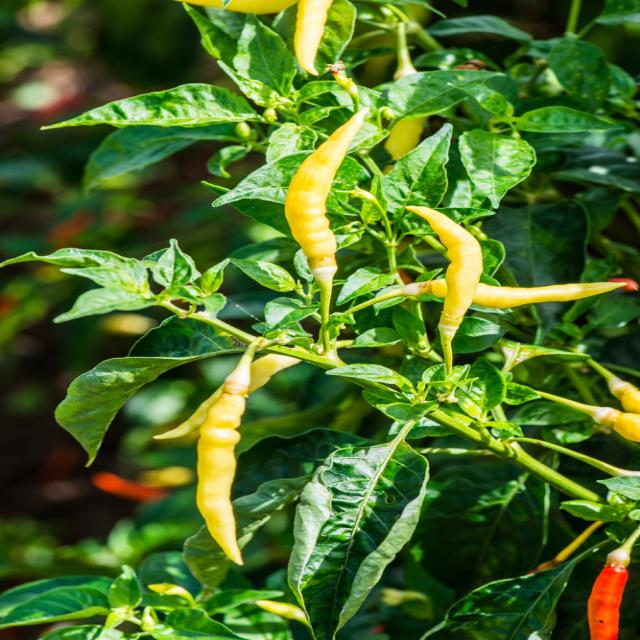Ripe: (588, 566, 628, 640)
Unripe: (285, 109, 366, 304), (148, 352, 306, 440), (407, 206, 484, 372), (197, 394, 243, 564), (472, 282, 622, 308), (294, 0, 332, 75)
